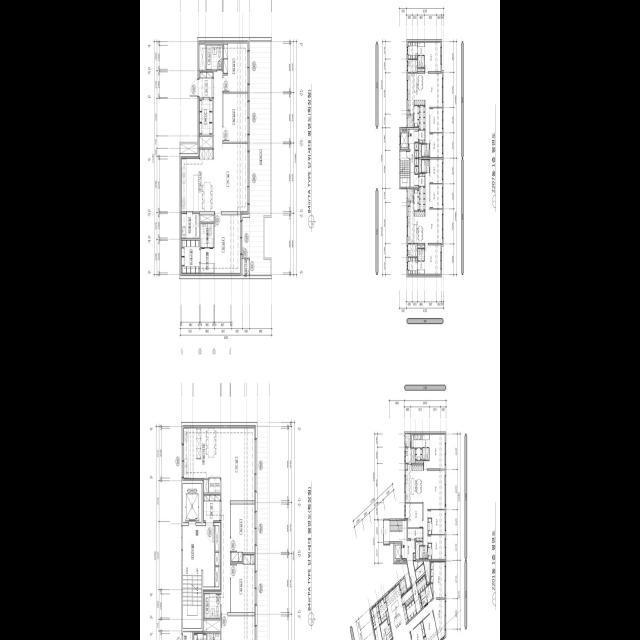background: (140, 0, 500, 640)
space_balconi: (399, 577, 407, 594), (405, 433, 411, 446)
space_bedroom: (215, 214, 241, 275), (231, 504, 256, 562), (231, 554, 256, 612), (223, 40, 248, 91), (223, 93, 248, 141), (221, 615, 256, 640), (424, 433, 445, 468), (431, 561, 445, 597), (425, 41, 441, 71), (425, 244, 441, 274), (423, 611, 438, 640), (428, 509, 445, 534), (428, 535, 445, 559), (405, 503, 422, 527), (430, 184, 443, 208), (430, 107, 442, 132), (430, 159, 442, 183), (411, 620, 425, 640), (430, 133, 442, 156), (428, 543, 432, 559), (428, 518, 432, 534)
space_dressroom: (181, 239, 200, 275), (370, 603, 381, 629), (407, 41, 417, 58), (407, 257, 417, 274), (412, 434, 422, 447), (193, 631, 206, 640), (415, 448, 422, 459)
space_elevator: (183, 483, 201, 519), (400, 129, 408, 149), (394, 543, 401, 562)
space_elevator_hall: (384, 520, 416, 584), (183, 523, 214, 586), (409, 129, 418, 186)
space_front: (203, 494, 220, 522), (199, 71, 213, 97), (412, 582, 422, 613), (416, 574, 427, 593), (406, 600, 416, 620), (408, 528, 423, 541), (419, 105, 425, 129), (419, 187, 425, 210), (419, 173, 425, 186), (419, 130, 425, 142)
space_kitchen: (183, 425, 221, 479), (181, 149, 214, 211), (385, 583, 408, 637), (407, 201, 425, 242), (407, 73, 425, 114), (405, 463, 423, 502), (414, 105, 419, 126), (414, 189, 419, 210)
space_living_room: (220, 425, 256, 612), (214, 71, 248, 213), (393, 599, 445, 640), (423, 470, 445, 545), (425, 71, 443, 142), (425, 173, 442, 244)
space_multipurpose_space: (181, 213, 199, 238)
space_other: (199, 99, 212, 134), (402, 587, 414, 606), (378, 598, 387, 622), (203, 620, 221, 631), (180, 143, 197, 153), (415, 563, 425, 579), (209, 478, 220, 492), (199, 44, 205, 69), (405, 447, 415, 462), (423, 561, 430, 582), (199, 136, 212, 147), (407, 59, 417, 72), (407, 244, 417, 256), (416, 541, 422, 559), (215, 525, 219, 550), (200, 214, 214, 221), (413, 561, 423, 570), (215, 567, 219, 586), (203, 479, 208, 492), (215, 552, 219, 565), (386, 610, 389, 624), (430, 583, 433, 595), (419, 143, 421, 157), (419, 159, 421, 172), (415, 158, 418, 165), (415, 142, 418, 149), (415, 166, 418, 173), (415, 150, 418, 157), (418, 68, 424, 71), (418, 244, 424, 247), (383, 596, 386, 602), (415, 460, 423, 462), (402, 559, 407, 562), (405, 464, 408, 469), (413, 553, 415, 559), (407, 110, 410, 114)
space_outdoor_room: (243, 259, 249, 275), (183, 631, 191, 640), (407, 188, 413, 200), (407, 115, 413, 127)
space_staircase: (183, 569, 201, 628), (400, 151, 409, 186), (390, 520, 402, 531)
space_toilet: (200, 223, 214, 275), (204, 593, 220, 618), (206, 44, 222, 69), (380, 619, 392, 640), (425, 584, 433, 602), (374, 625, 382, 640), (422, 144, 430, 156), (422, 159, 430, 171), (420, 546, 428, 558), (422, 434, 429, 447), (418, 41, 424, 55), (418, 260, 424, 273), (420, 589, 426, 600), (421, 596, 427, 607), (422, 447, 426, 459), (426, 447, 429, 459), (418, 55, 421, 67), (421, 248, 424, 260), (421, 55, 424, 67), (418, 248, 421, 260)
